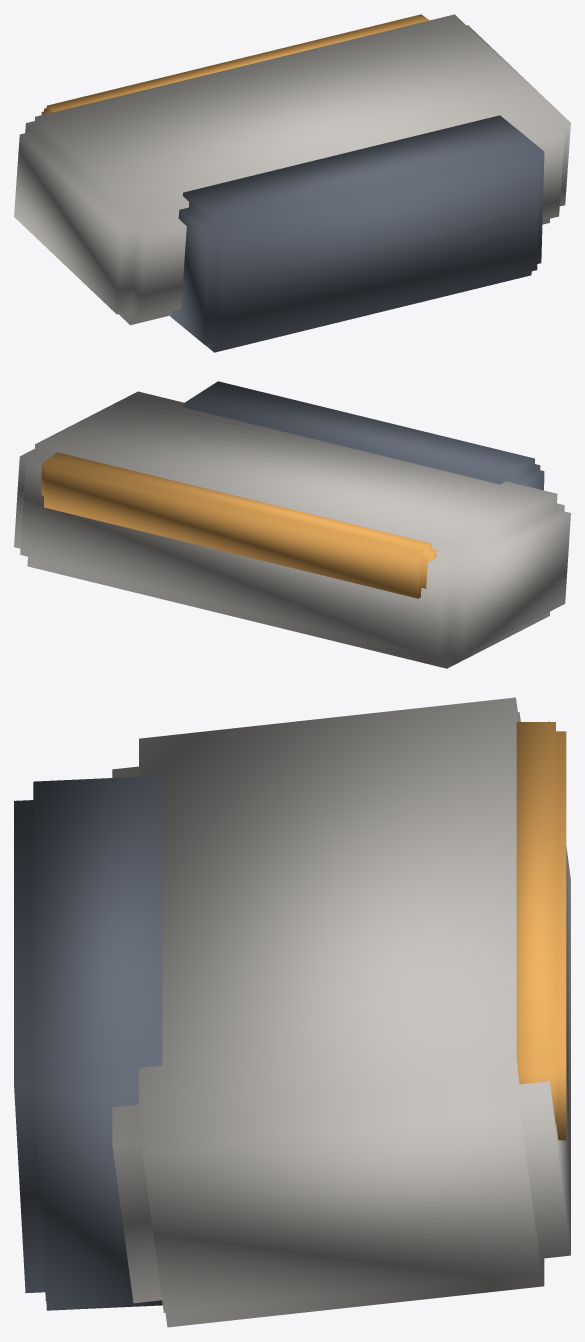
Rendered from armor.glb.
3 renders of one model, top to bottom at view 1: azimuth 30°, elevation 25°; view 2: azimuth 150°, elevation 25°; view 3: azimuth 270°, elevation 25°, orthographic. The views are drawn at different scales.
Visible parts, largest first — view 1: armor; view 2: armor; view 3: armor.
Boxes of the visible parts, x1,y1,x2,y2 form: armor: (14, 14, 570, 352); armor: (14, 381, 570, 668); armor: (14, 697, 570, 1327).
Size of the model in its own units: 0.56 by 0.1847 by 0.3286.
